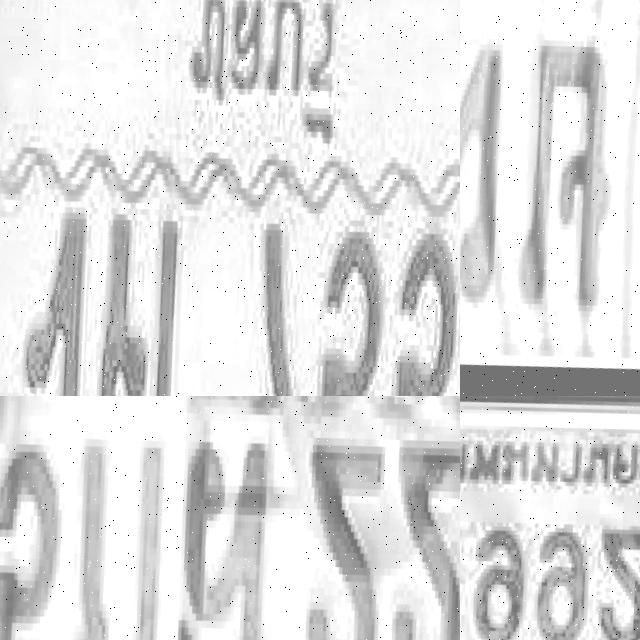license-plate: (0, 0, 460, 396), (0, 396, 460, 640), (460, 0, 640, 396), (460, 396, 640, 640)
